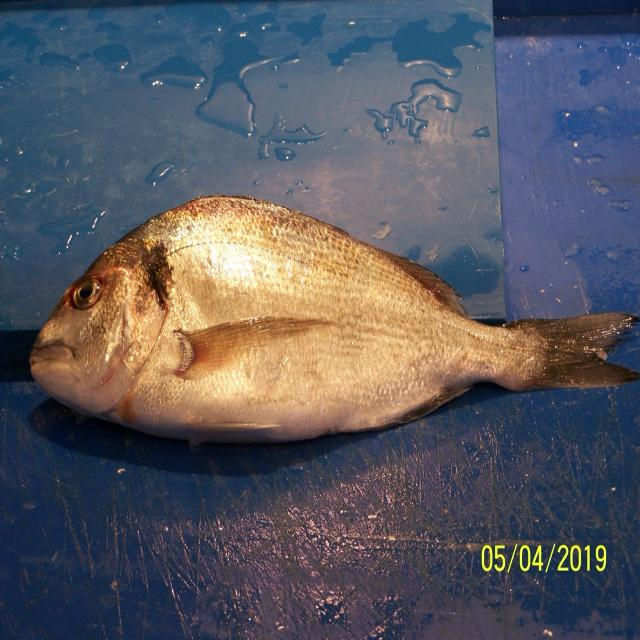Gilt-Head-Bream-c-ipura-: (28, 195, 640, 448)
